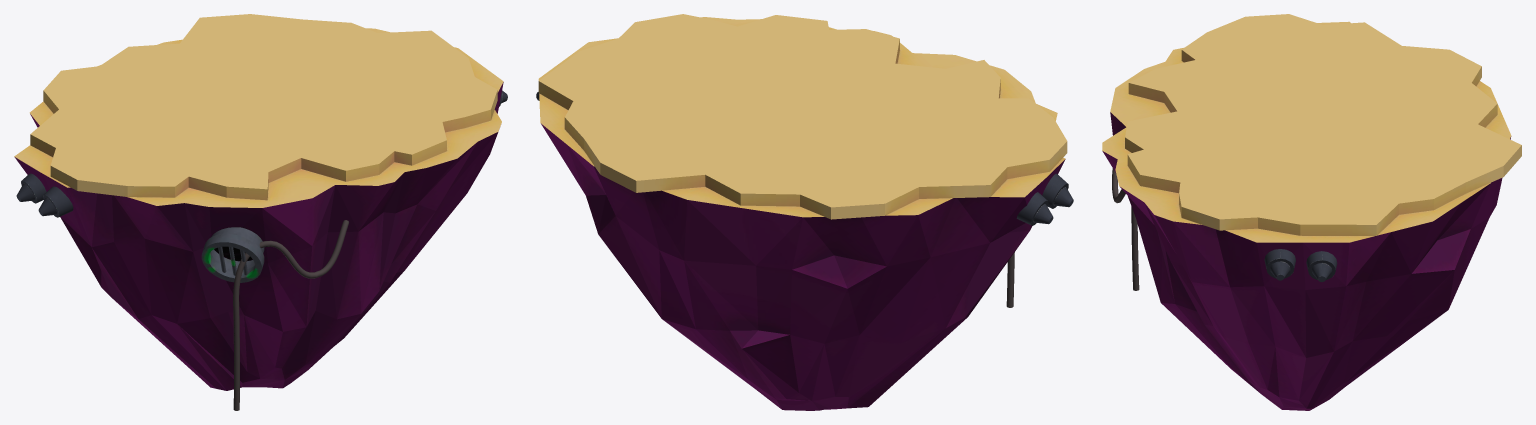
File: cyberpunk-bar-3.glb
3 renders of one model, left to right at view 1: azimuth 30°, elevation 25°; view 2: azimuth 150°, elevation 25°; view 3: azimuth 270°, elevation 25°, orthographic. The views are drawn at different scales.
Visible parts, largest first — view 1: Object_20, Object_21, Object_10; view 2: Object_20, Object_21; view 3: Object_20, Object_21, Object_10.
Boxes of the visible parts, x1,y1,x2,y2 form: Object_20: (14, 14, 503, 390); Object_21: (16, 90, 507, 282); Object_10: (233, 220, 348, 410); Object_20: (538, 14, 1067, 410); Object_21: (536, 92, 1073, 225); Object_20: (1102, 14, 1521, 410); Object_21: (1264, 249, 1337, 281); Object_10: (1112, 168, 1139, 290).
Bounding box in the file's own units: 1.64 × 0.9213 × 1.25.
Materials: 2 (1 with a texture image).
